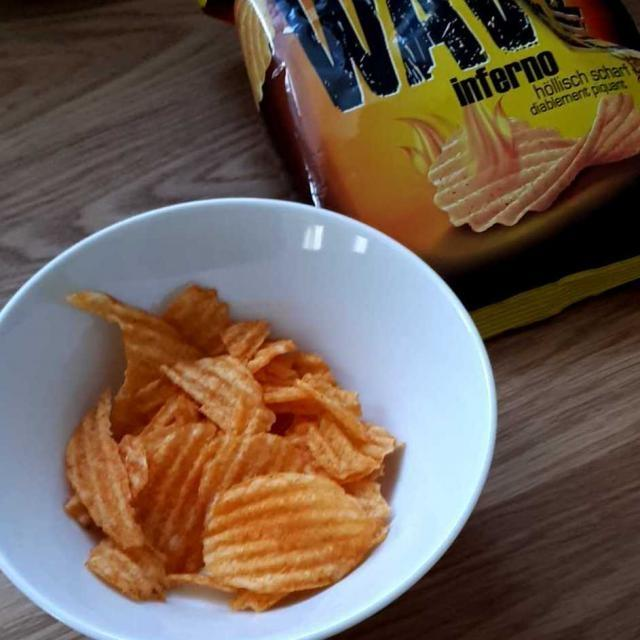crisps: (65, 288, 388, 608)
